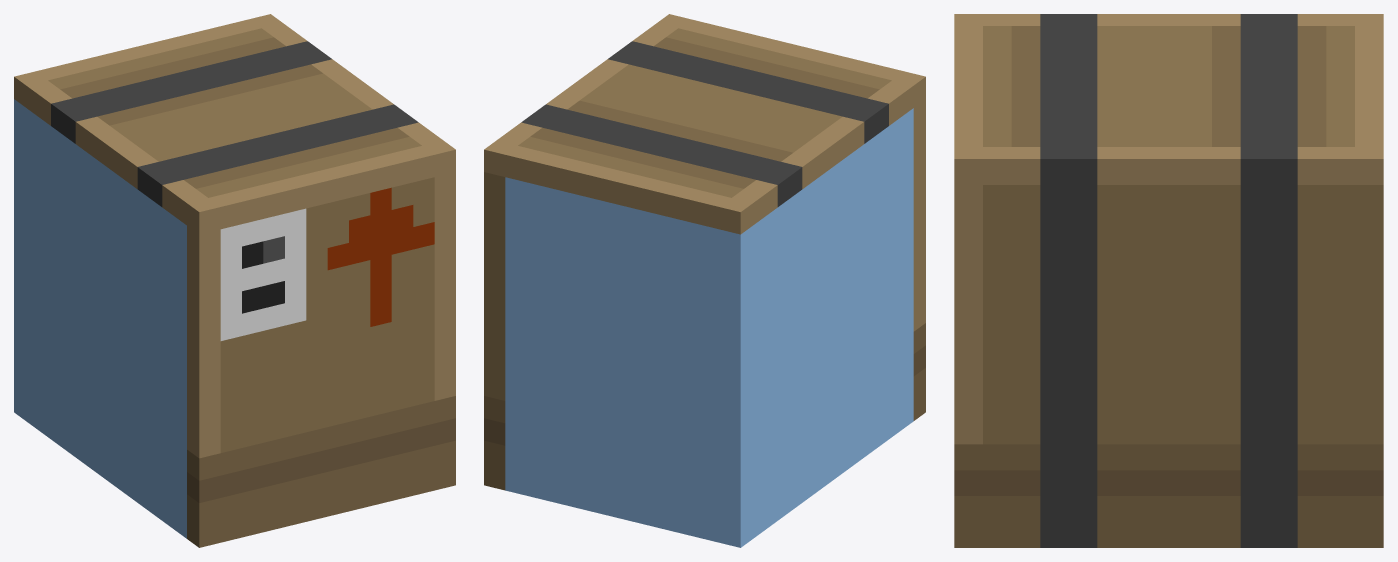
File: Crate.gltf
3 views of the same model, side by side, from view 1: azimuth 30°, elevation 25°; view 2: azimuth 150°, elevation 25°; view 3: azimuth 270°, elevation 25° (orthographic). The views are drawn at different scales.
Parts seen in each view (by area): view 1: Temp_Crate/Crate; view 2: Temp_Crate/Crate; view 3: Temp_Crate/Crate.
Part boxes in pixels (box(x1,y1,x2,y2)): Temp_Crate/Crate: box(14, 14, 455, 547); Temp_Crate/Crate: box(484, 14, 925, 547); Temp_Crate/Crate: box(954, 14, 1383, 547).
Size of the model in its own units: 0.6 by 0.75 by 0.75.
Materials: 1 (1 with a texture image).
